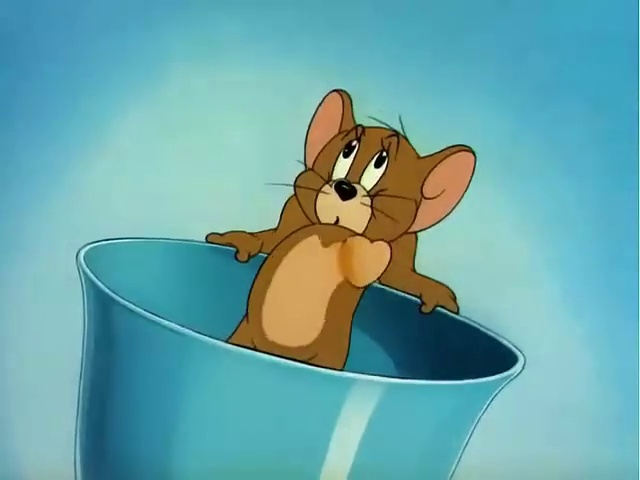jerry: (190, 61, 494, 364)
